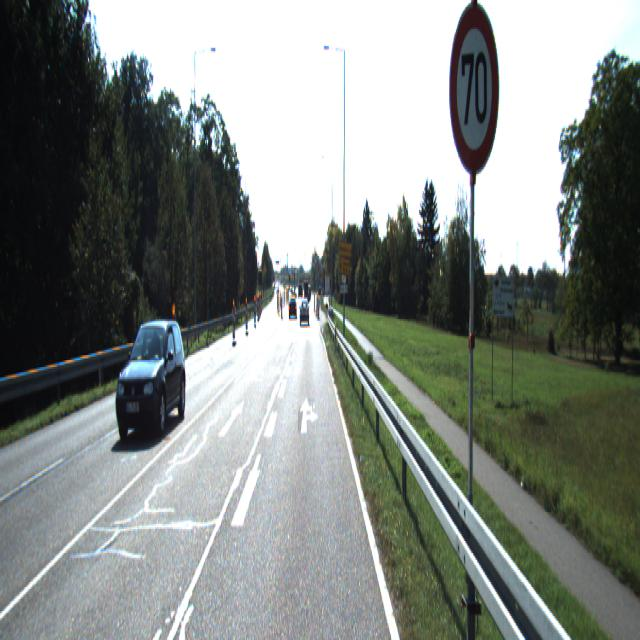Car: (114, 316, 187, 442), (300, 300, 310, 325)
